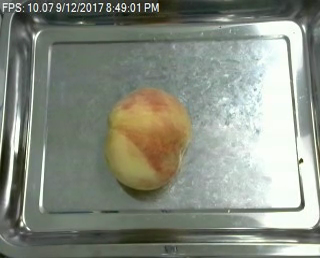Peach: (105, 86, 191, 192)
